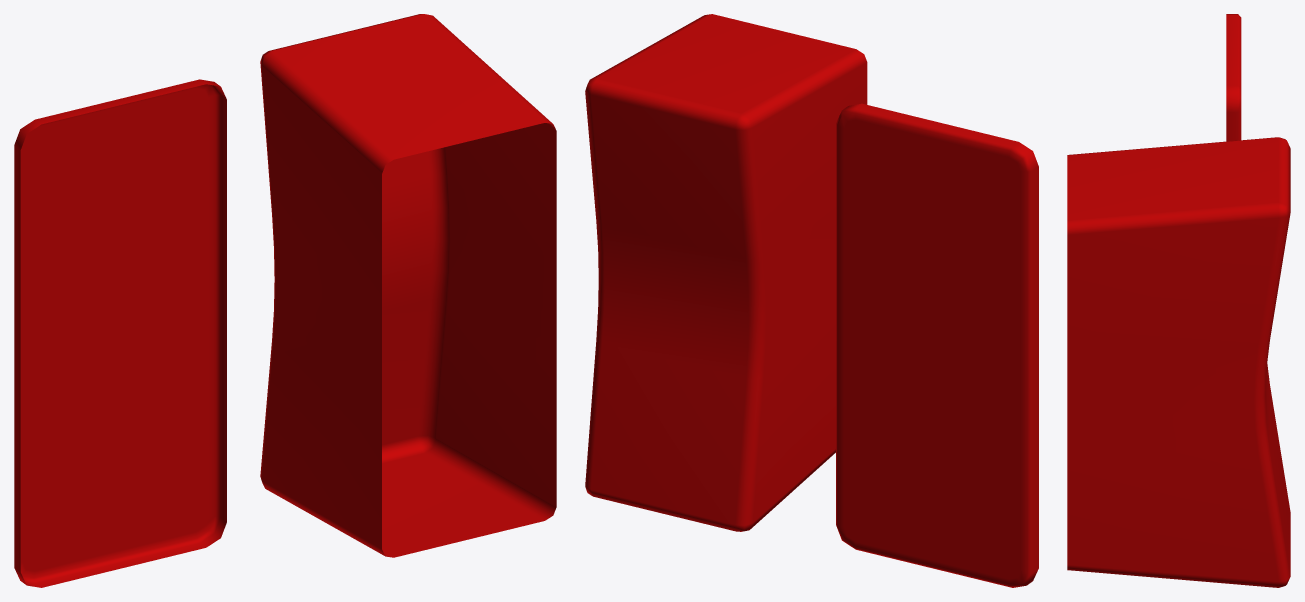
The model's file is Switch_low.fbx.
3 renders of one model, left to right at view 1: azimuth 30°, elevation 25°; view 2: azimuth 150°, elevation 25°; view 3: azimuth 270°, elevation 25°, orthographic. The views are drawn at different scales.
Parts seen in each view (by area): view 1: Switch_high, Contour_high; view 2: Switch_high, Contour_high; view 3: Switch_high, Contour_high.
Boxes of the visible parts, x1=… form: Switch_high: x1=260, y1=14, x2=556, y2=557; Contour_high: x1=14, y1=79, x2=226, y2=587; Switch_high: x1=585, y1=14, x2=867, y2=531; Contour_high: x1=836, y1=103, x2=1038, y2=587; Switch_high: x1=1067, y1=137, x2=1290, y2=587; Contour_high: x1=1226, y1=14, x2=1241, y2=141.
Size of the model in its own units: 23.12 by 23 by 11.44.
